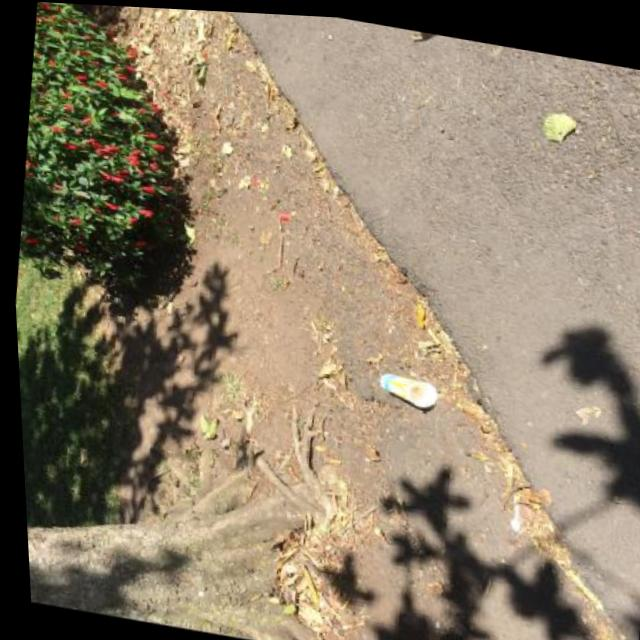cardboard: (376, 375, 439, 412)
plastic: (507, 495, 524, 534)
